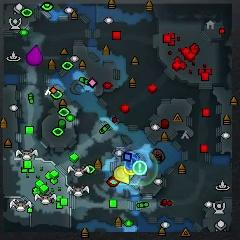Other: (133, 161, 147, 175), (125, 158, 137, 169), (123, 165, 135, 174)
p3: (26, 44, 43, 66)
p4: (113, 166, 130, 184)
